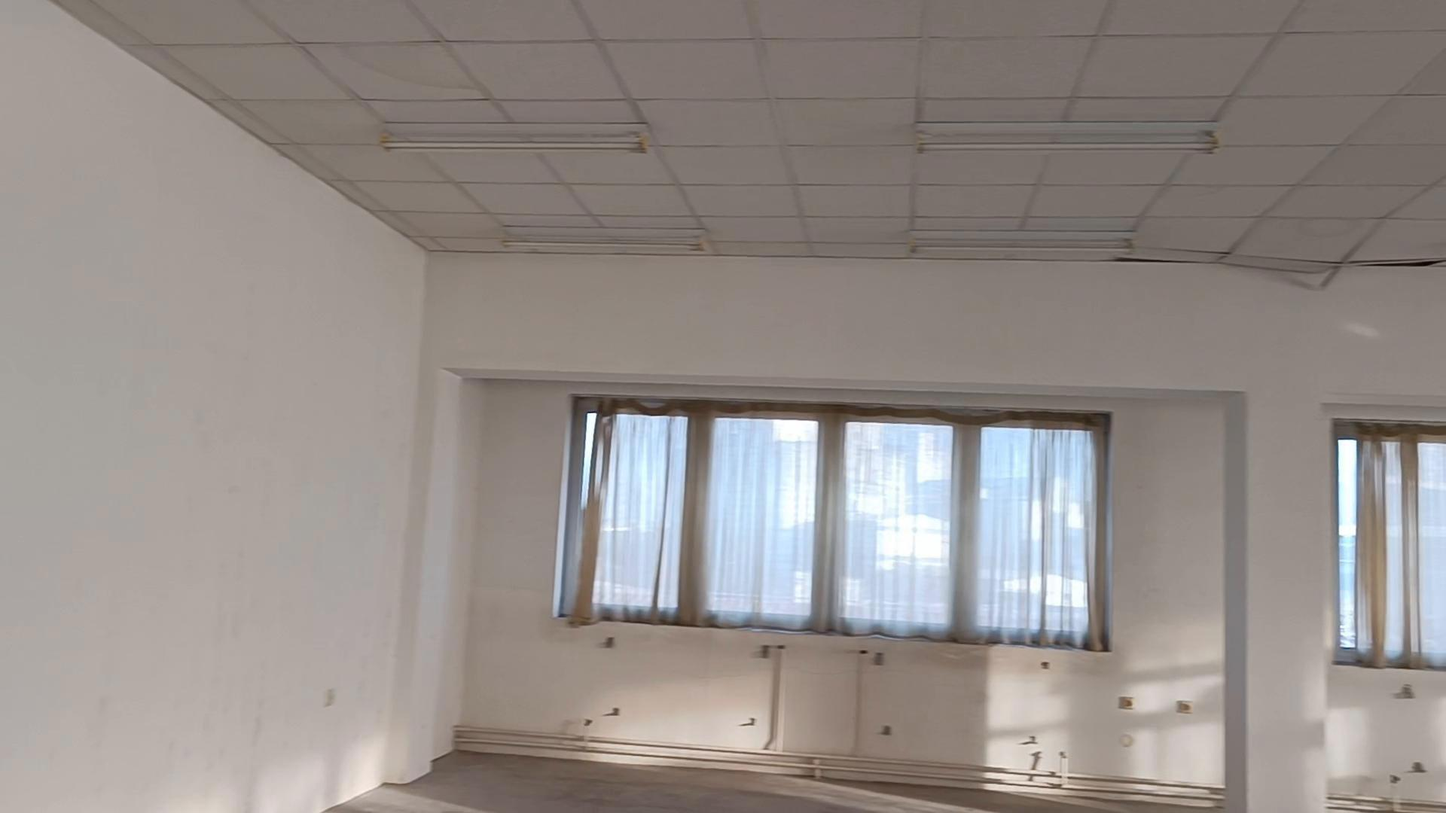ceiling: (53, 0, 1445, 281)
floor: (328, 752, 1221, 812), (328, 752, 1219, 812)
wall: (0, 0, 1445, 812), (467, 390, 1218, 787), (1324, 670, 1445, 798)
